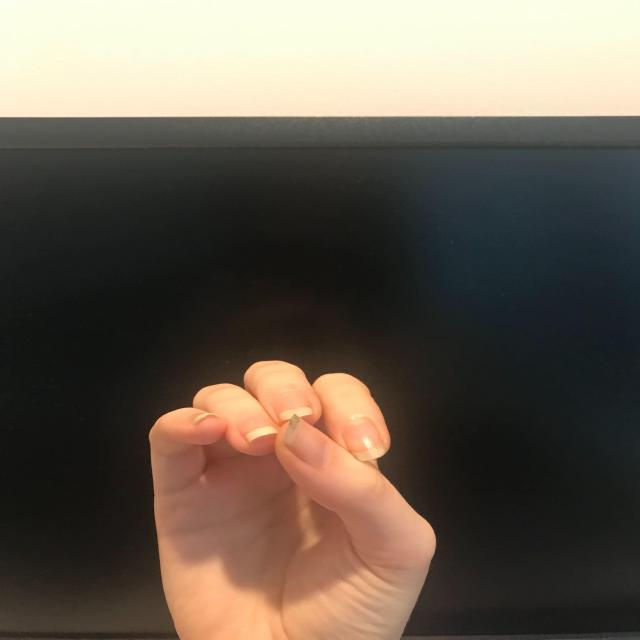O: (139, 355, 442, 640)
